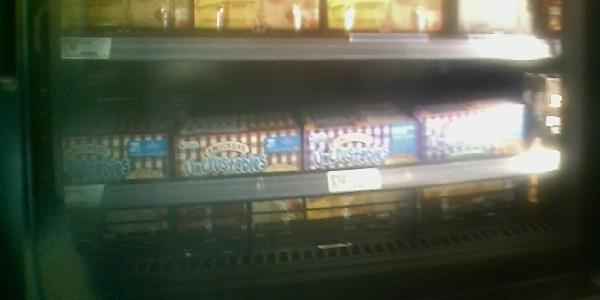icecream: (173, 116, 309, 180), (56, 122, 176, 189), (420, 97, 534, 163), (310, 112, 426, 175)
